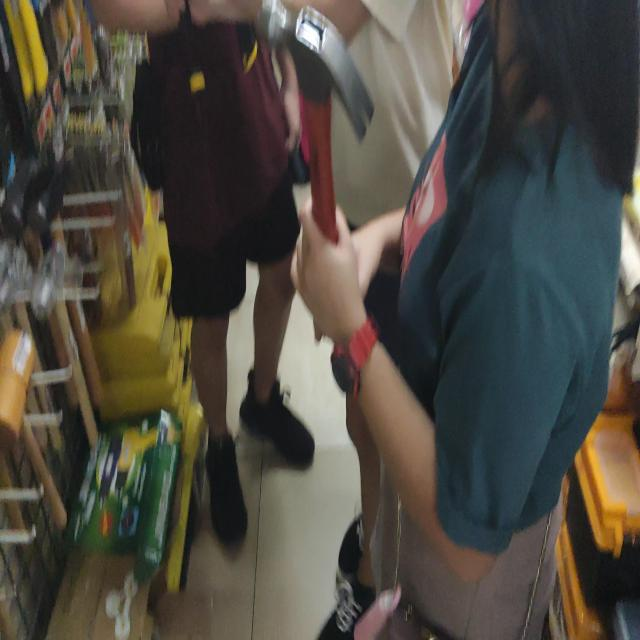hammer: (254, 0, 372, 348)
